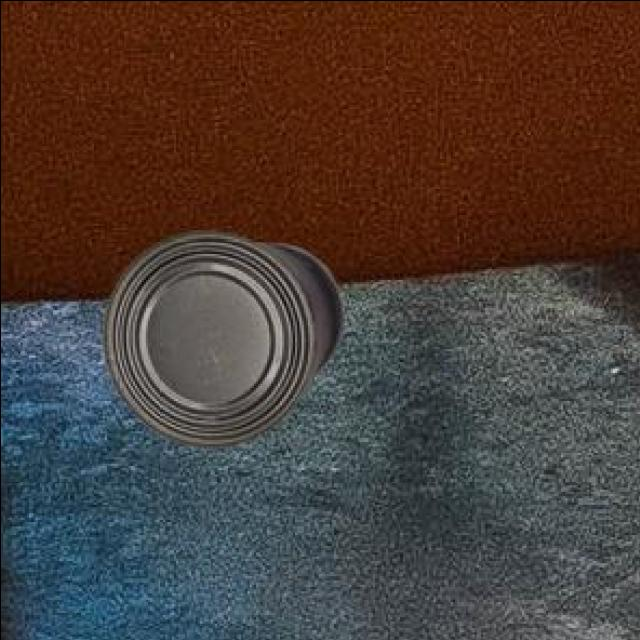logam: (105, 228, 345, 444)
